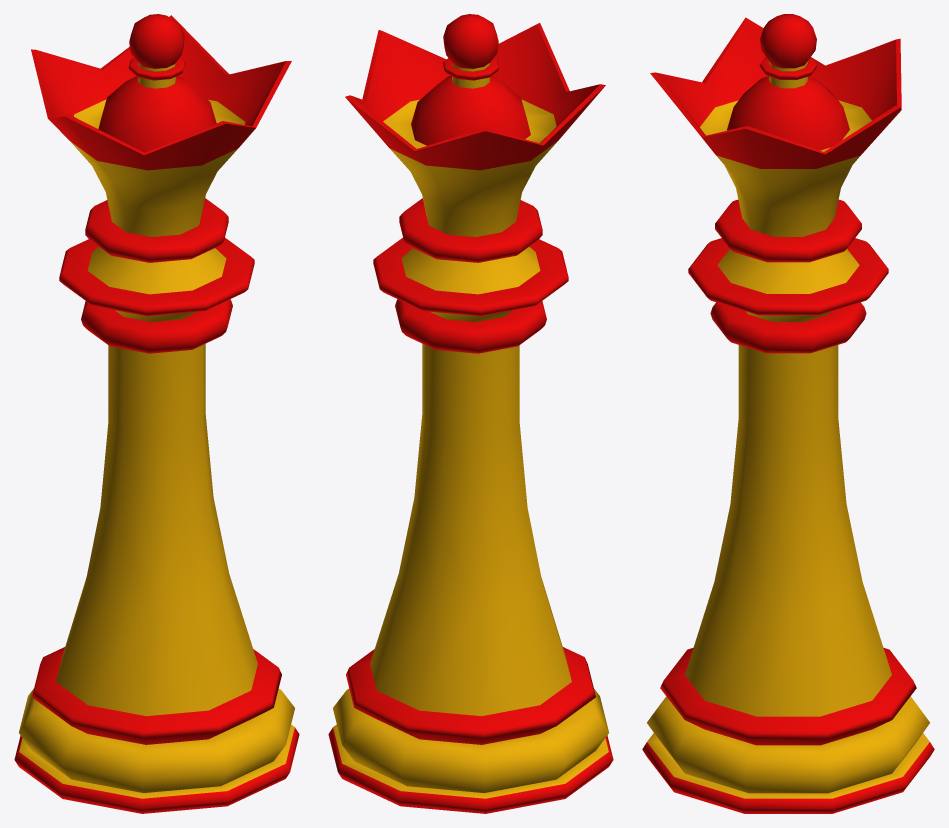
The model's file is SM_ChessPiece.fbx.
3 renders of one model, left to right at view 1: azimuth 30°, elevation 25°; view 2: azimuth 150°, elevation 25°; view 3: azimuth 270°, elevation 25°, orthographic.
Parts seen in each view (by area): view 1: QueenLow; view 2: QueenLow; view 3: QueenLow.
Part boxes in pixels (box(x1,y1,x2,y2)): QueenLow: box(14, 14, 299, 813); QueenLow: box(328, 14, 613, 813); QueenLow: box(642, 14, 934, 813).
Size of the model in its own units: 40.07 by 118 by 42.13.
